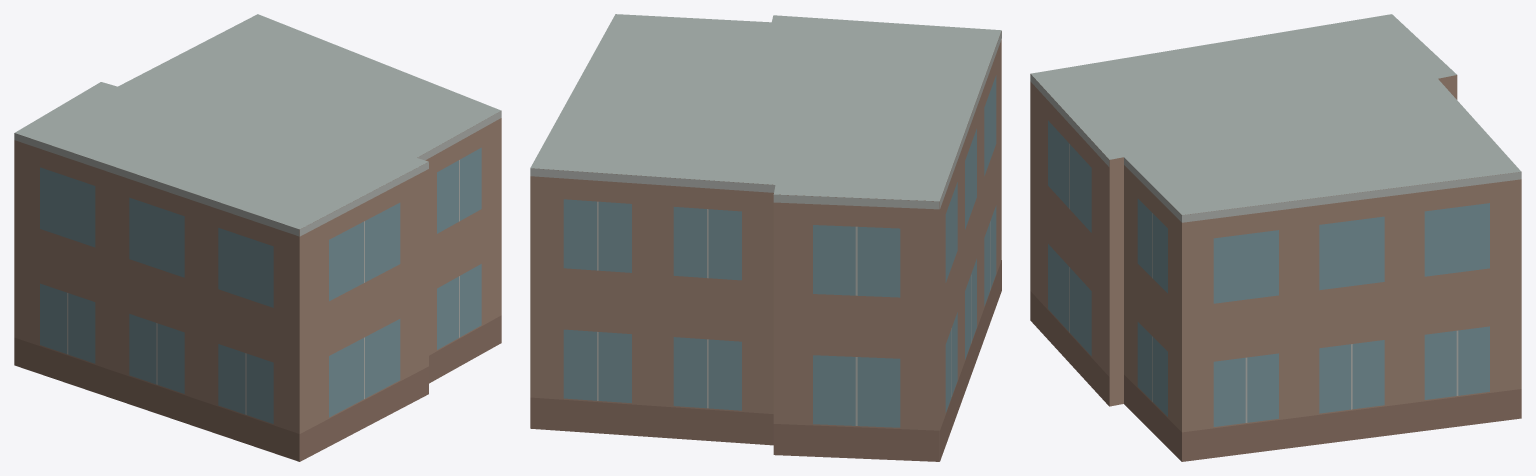
File: survey-upis-32858190.glb
3 renders of one model, left to right at view 1: azimuth 30°, elevation 25°; view 2: azimuth 150°, elevation 25°; view 3: azimuth 270°, elevation 25°, orthographic. The views are drawn at different scales.
Parts seen in each view (by area): view 1: survey-upis-32858190.tmp; view 2: survey-upis-32858190.tmp; view 3: survey-upis-32858190.tmp.
Boxes of the visible parts, x1,y1,x2,y2 form: survey-upis-32858190.tmp: (14, 14, 501, 461); survey-upis-32858190.tmp: (530, 14, 1001, 461); survey-upis-32858190.tmp: (1030, 14, 1521, 461).
Bounding box in the file's own units: 13.82 × 7.9 × 14.26.
